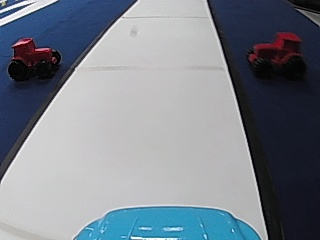tractor: (246, 29, 306, 81), (7, 35, 61, 81)
